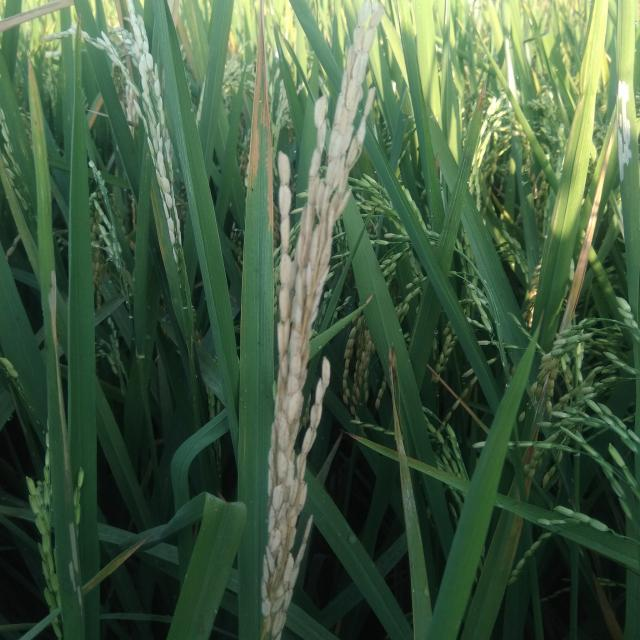Brown spot: (237, 5, 281, 178), (570, 188, 602, 306), (19, 49, 47, 124)
brown plant hopper: (614, 78, 634, 184)
